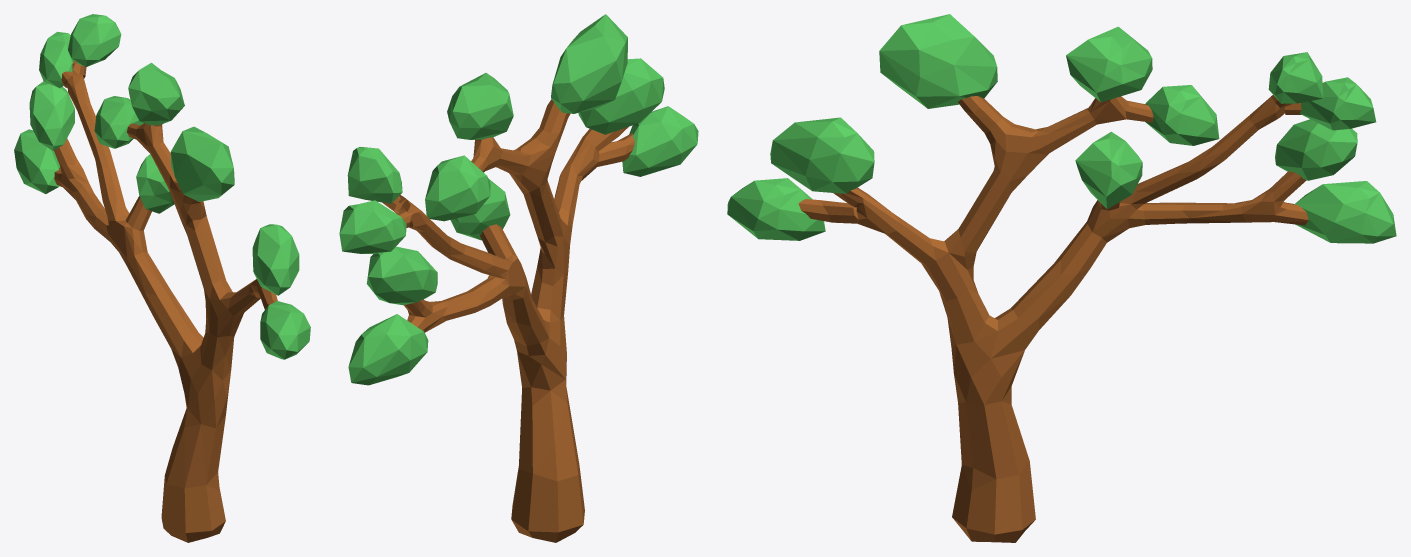
File: tree4.fbx
The picture shows the model from 3 angles, left to right: view 1: azimuth 30°, elevation 25°; view 2: azimuth 150°, elevation 25°; view 3: azimuth 270°, elevation 25°; orthographic projection. The views are drawn at different scales.
Visible parts, largest first — view 1: tree4; view 2: tree4; view 3: tree4.
Part boxes in pixels (x1,y1,x2,y2): tree4: (14,14,310,542); tree4: (339,14,698,542); tree4: (727,14,1396,542).
Bounding box in the file's own units: 167 × 768 × 913.
